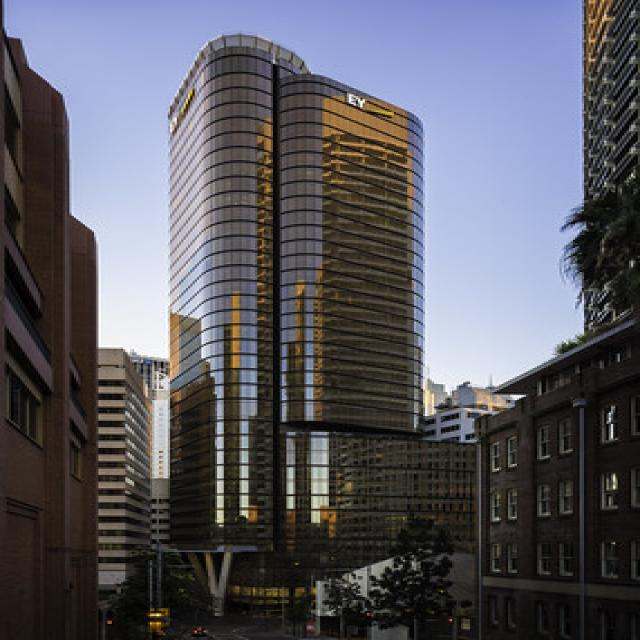Normal_building: (156, 24, 438, 640)
